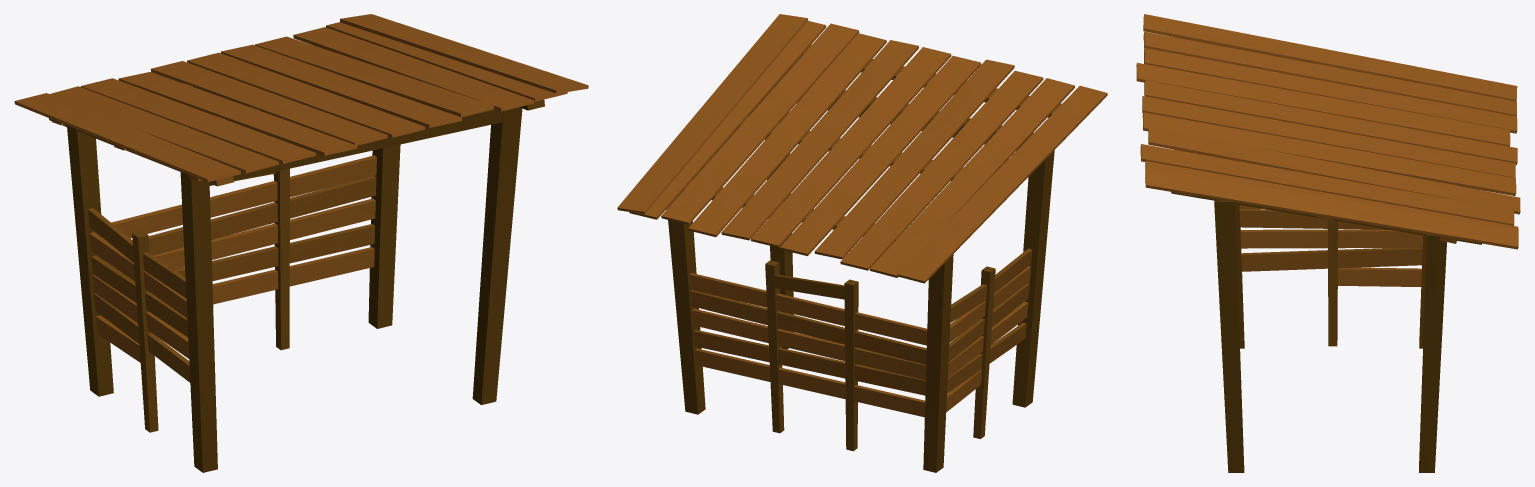
The model's file is Shed.fbx.
3 renders of one model, left to right at view 1: azimuth 30°, elevation 25°; view 2: azimuth 150°, elevation 25°; view 3: azimuth 270°, elevation 25°, orthographic. The views are drawn at different scales.
Parts seen in each view (by area): view 1: Shed; view 2: Shed; view 3: Shed.
Part boxes in pixels (x1,y1,x2,y2): Shed: (14,14,588,472); Shed: (617,14,1107,472); Shed: (1136,14,1520,472).
Size of the model in its own units: 1.22 by 1.04 by 1.16.
